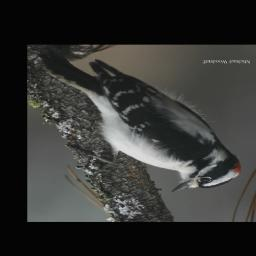Woodpecker: (40, 51, 242, 193)
